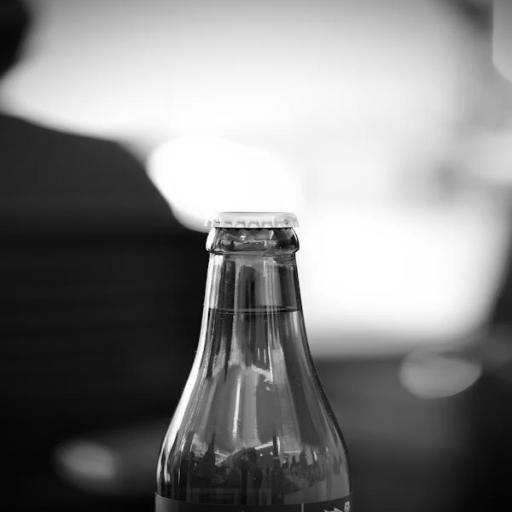bottle: (145, 204, 366, 512)
